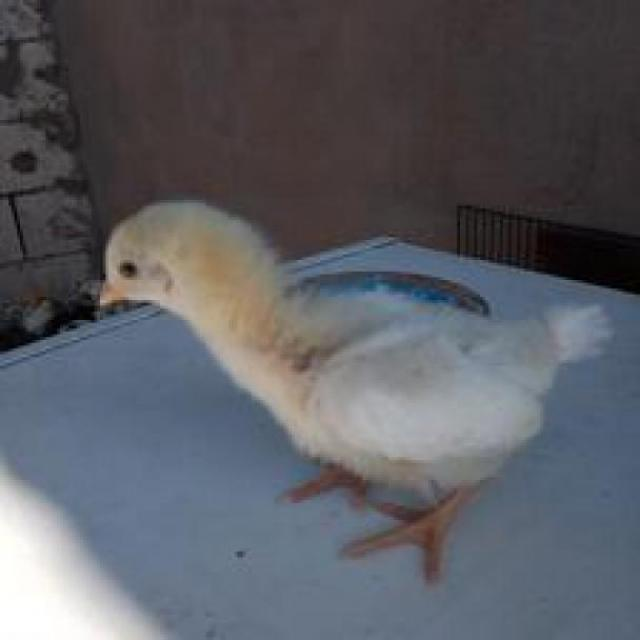Chicken: (78, 176, 616, 600)
